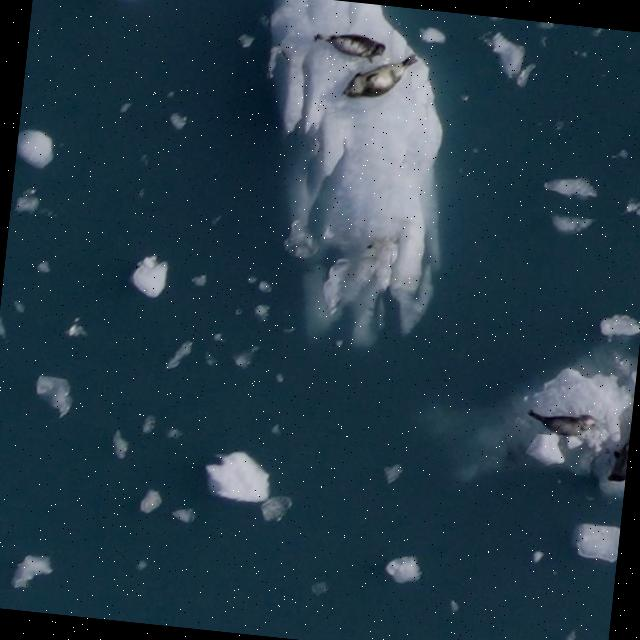seal: (341, 57, 416, 99), (528, 410, 596, 437), (317, 34, 384, 59), (607, 434, 630, 484)
